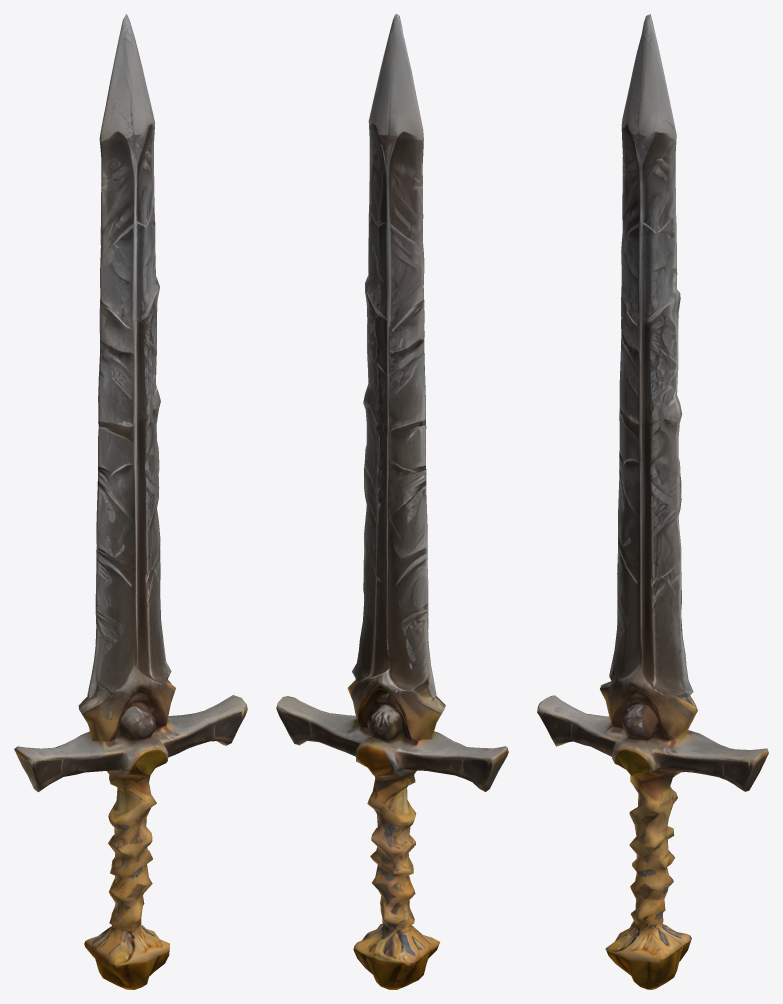
File: wpn_cursedblade.glb
3 views of the same model, side by side, from view 1: azimuth 30°, elevation 25°; view 2: azimuth 150°, elevation 25°; view 3: azimuth 330°, elevation 25° (orthographic).
Parts seen in each view (by area): view 1: tripo_node_f7590273-5f74-4d01-afb3-b0d4ac51dd0b; view 2: tripo_node_f7590273-5f74-4d01-afb3-b0d4ac51dd0b; view 3: tripo_node_f7590273-5f74-4d01-afb3-b0d4ac51dd0b.
Boxes of the visible parts, bbox=[...] form: tripo_node_f7590273-5f74-4d01-afb3-b0d4ac51dd0b: bbox=[14, 14, 247, 989]; tripo_node_f7590273-5f74-4d01-afb3-b0d4ac51dd0b: bbox=[276, 14, 508, 989]; tripo_node_f7590273-5f74-4d01-afb3-b0d4ac51dd0b: bbox=[537, 14, 768, 989].
Size of the model in its own units: 0.2372 by 0.997 by 0.0826.
1 material, 1 textured.
